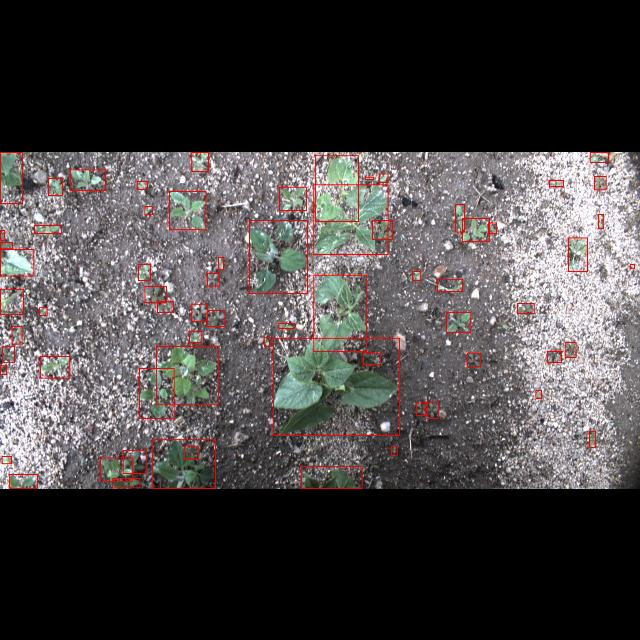crop: (273, 337, 399, 435), (314, 184, 388, 254), (249, 220, 307, 292), (314, 274, 366, 352), (156, 346, 218, 404), (152, 439, 215, 488), (316, 155, 358, 221), (140, 368, 174, 418), (302, 466, 362, 488), (0, 152, 22, 202), (0, 248, 34, 276)
weed: (170, 190, 207, 230), (70, 168, 106, 190), (100, 457, 132, 481), (568, 237, 588, 271), (462, 217, 490, 241), (40, 356, 70, 378), (280, 186, 306, 210), (1, 288, 23, 314), (446, 312, 472, 332), (124, 451, 146, 474), (9, 474, 37, 488), (373, 220, 393, 238), (144, 286, 166, 302), (438, 278, 462, 292), (192, 152, 208, 170), (207, 310, 225, 326), (112, 478, 140, 488), (192, 303, 206, 321), (48, 178, 62, 195), (34, 225, 62, 233), (456, 203, 464, 231), (364, 352, 381, 364), (2, 346, 14, 362), (138, 263, 150, 279), (157, 300, 173, 312), (426, 402, 438, 418), (564, 341, 576, 357), (590, 151, 608, 161), (12, 326, 22, 344), (594, 175, 606, 189), (184, 446, 198, 458), (207, 272, 219, 286), (468, 352, 480, 366), (547, 350, 561, 362), (518, 303, 534, 313), (190, 331, 202, 342), (417, 403, 428, 415), (549, 178, 563, 186), (412, 270, 422, 280), (378, 172, 388, 182), (589, 431, 595, 447), (279, 322, 295, 328), (598, 213, 604, 227), (2, 456, 12, 464), (137, 180, 147, 188), (488, 222, 496, 232), (218, 257, 224, 269), (0, 242, 12, 248), (145, 206, 153, 214), (39, 307, 47, 315), (0, 364, 6, 374), (0, 229, 6, 239), (264, 338, 270, 347), (392, 446, 396, 456), (536, 390, 540, 398), (630, 264, 634, 268), (365, 176, 373, 178)
